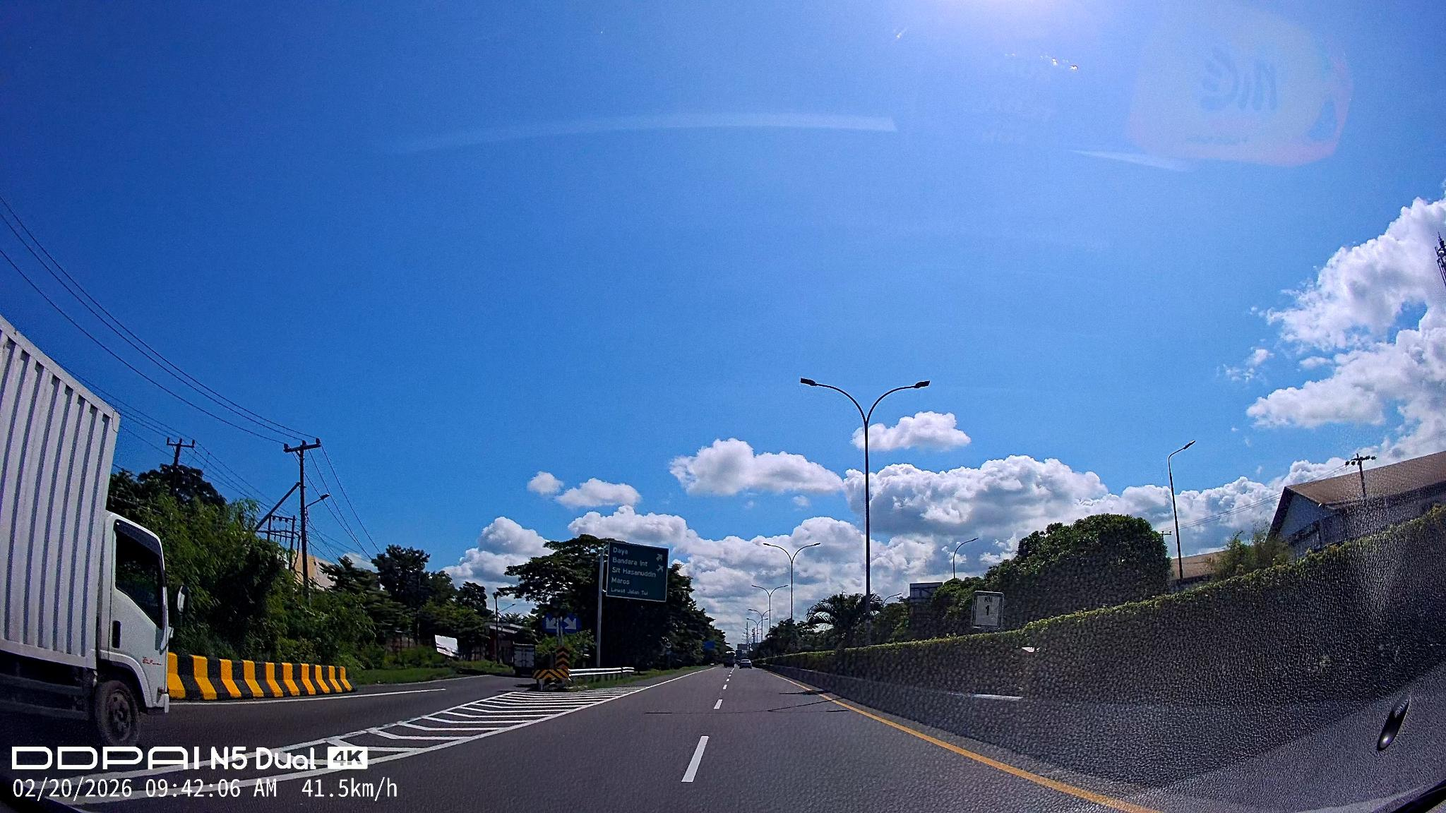rambu_teks: (608, 541, 669, 602)
